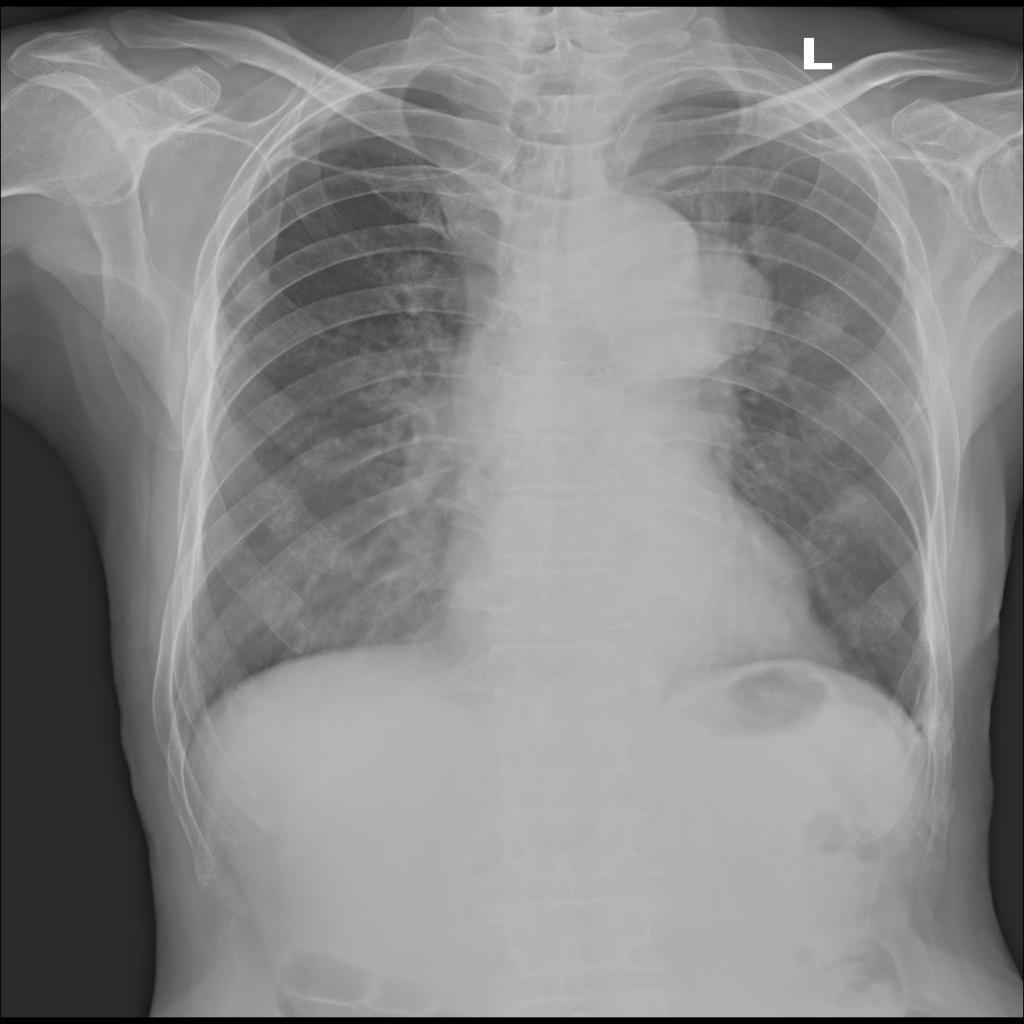Nodule: (675, 254, 776, 355)
